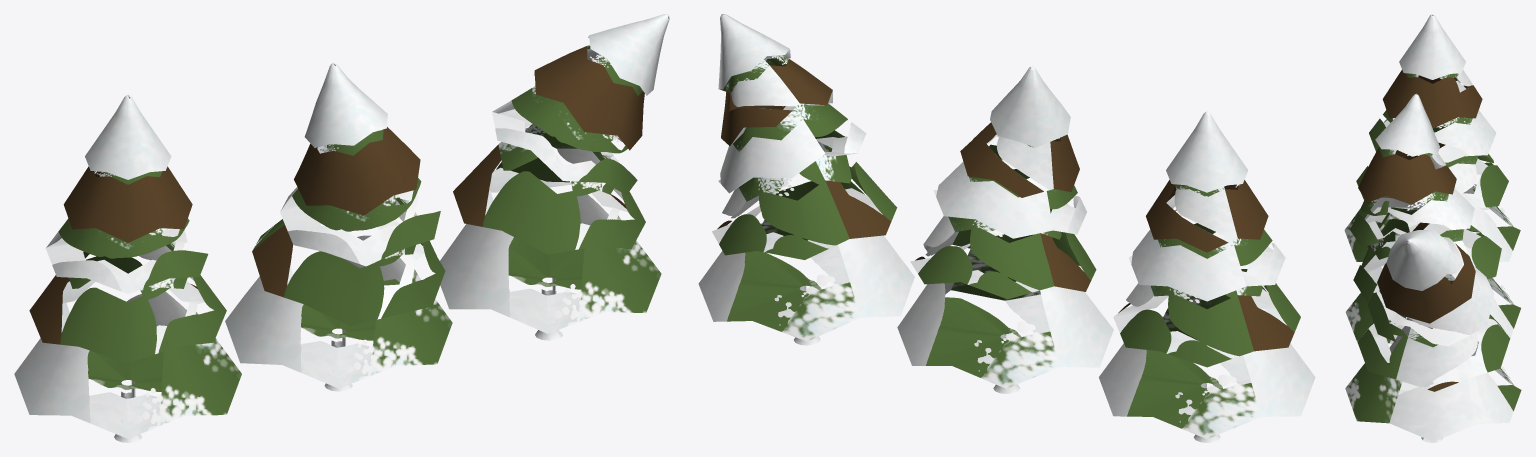
The model's file is pino.obj.
3 renders of one model, left to right at view 1: azimuth 30°, elevation 25°; view 2: azimuth 150°, elevation 25°; view 3: azimuth 270°, elevation 25°, orthographic. The views are drawn at different scales.
Visible parts, largest first — view 1: scene; view 2: scene; view 3: scene.
Part boxes in pixels (x1,y1,x2,y2): scene: (14, 14, 669, 442); scene: (698, 14, 1315, 442); scene: (1344, 14, 1521, 442).
Size of the model in its own units: 9.92 by 5.21 by 3.15.
